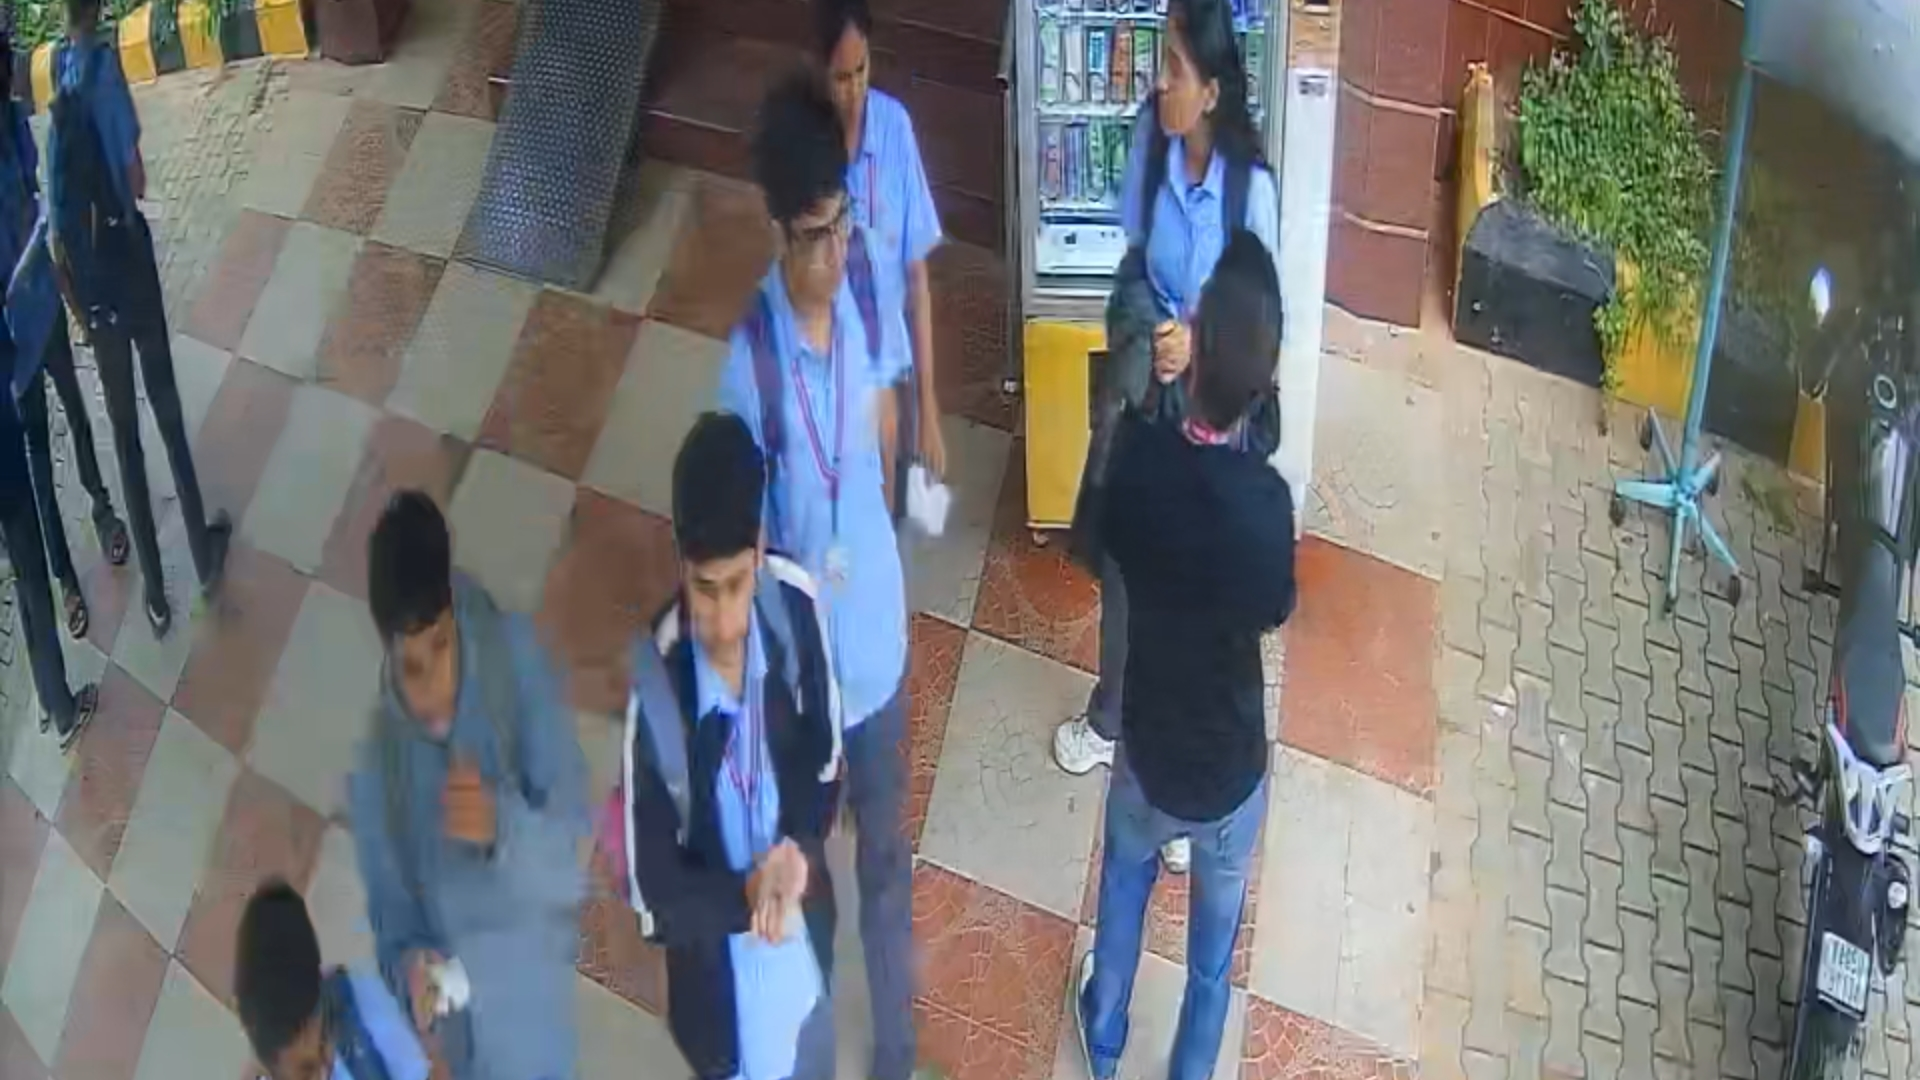intruder: (343, 491, 622, 1080), (1121, 1, 1278, 297)
not intruder: (721, 78, 934, 1080), (629, 409, 887, 1080), (799, 1, 953, 385)
